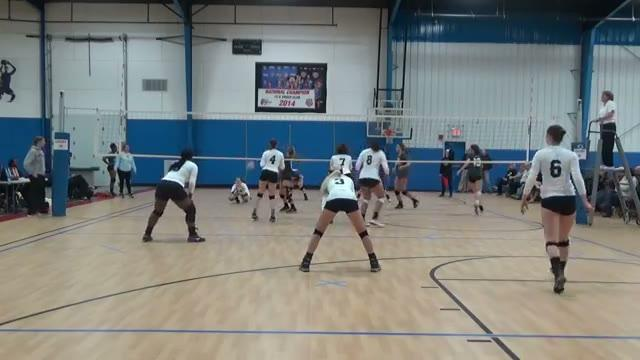ball: (245, 159, 257, 173)
